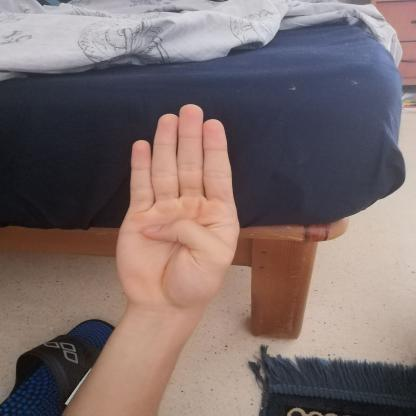KAAF: (96, 92, 255, 324)
